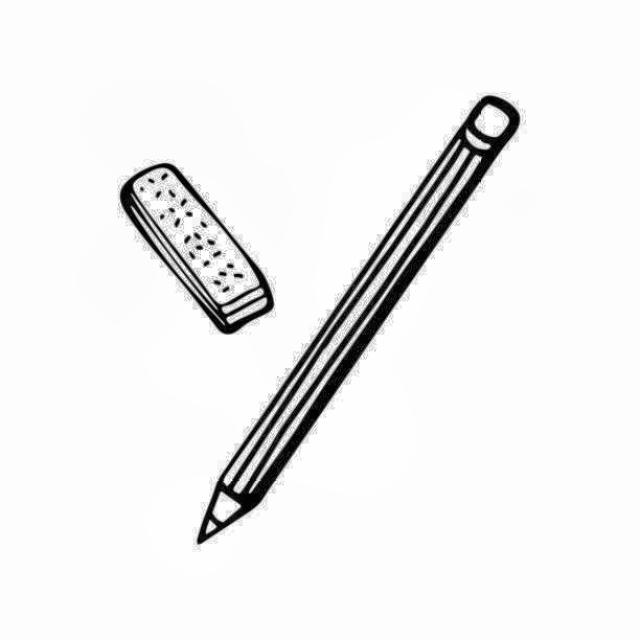eraser: (113, 140, 275, 334)
